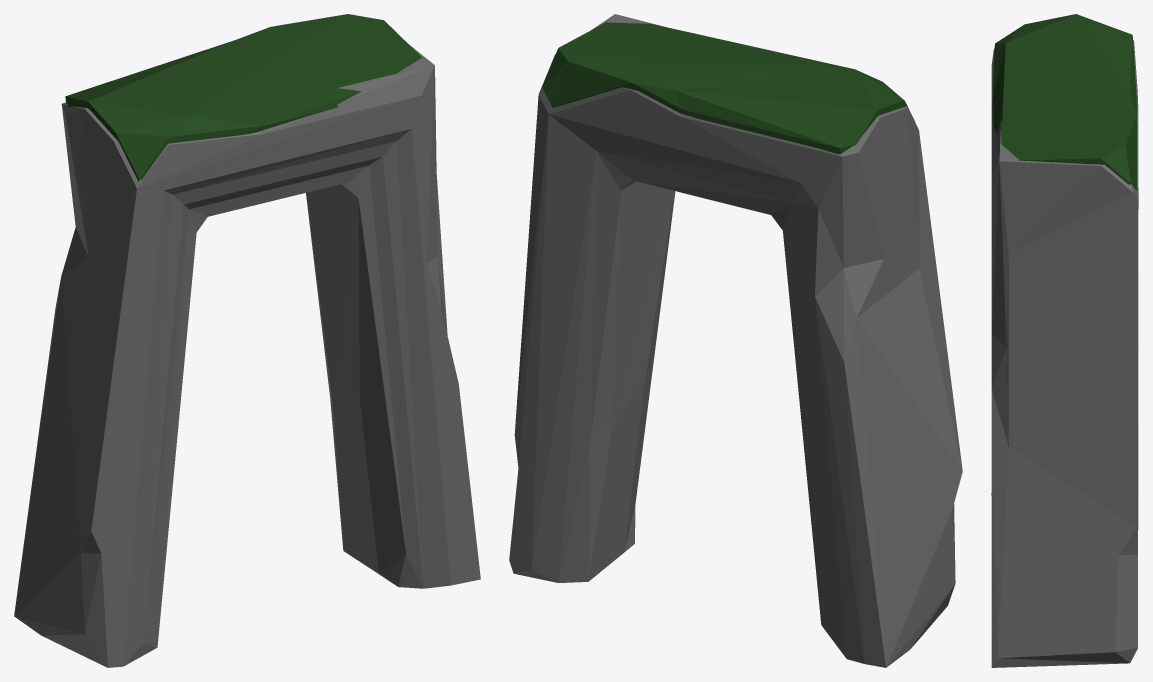
Rendered from SM_doorframe_jungle_02.fbx.
The picture shows the model from 3 angles, left to right: view 1: azimuth 30°, elevation 25°; view 2: azimuth 150°, elevation 25°; view 3: azimuth 270°, elevation 25°; orthographic projection. The views are drawn at different scales.
Visible parts, largest first — view 1: Object065; view 2: Object065; view 3: Object065.
Part boxes in pixels (x1=…): Object065: x1=14, y1=14, x2=480, y2=667; Object065: x1=509, y1=14, x2=962, y2=667; Object065: x1=991, y1=14, x2=1138, y2=667.
Size of the model in its own units: 112 by 145 by 39.
